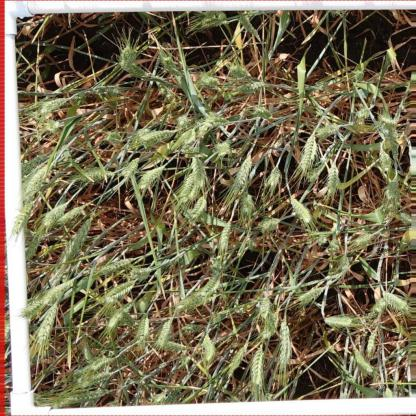whd: (63, 218, 92, 262), (52, 389, 108, 408), (37, 304, 58, 345), (43, 278, 72, 304), (105, 279, 136, 302), (14, 202, 35, 235), (108, 301, 134, 327), (249, 350, 265, 392), (197, 117, 229, 138), (277, 324, 292, 368), (24, 168, 48, 194), (233, 159, 251, 192), (138, 166, 162, 189), (181, 173, 200, 202), (382, 290, 409, 310), (22, 154, 44, 178), (353, 346, 373, 372), (290, 198, 310, 223), (301, 135, 316, 168), (44, 204, 66, 226), (20, 296, 42, 318), (101, 258, 133, 273), (58, 205, 85, 222), (178, 293, 205, 310), (242, 16, 260, 41), (24, 232, 40, 260), (139, 129, 173, 142), (200, 274, 221, 295), (41, 97, 67, 113), (262, 312, 278, 338), (83, 372, 112, 386), (350, 232, 374, 248), (300, 287, 324, 303), (316, 122, 339, 138), (34, 388, 54, 406), (190, 196, 206, 218), (157, 322, 171, 346), (325, 315, 353, 327), (219, 222, 231, 250), (237, 82, 264, 94), (137, 315, 149, 341), (328, 162, 338, 193), (378, 151, 392, 172), (121, 46, 133, 70), (122, 158, 138, 176), (386, 176, 398, 200), (203, 335, 214, 361), (266, 166, 280, 186), (80, 168, 114, 176), (91, 358, 113, 370), (367, 329, 377, 354), (232, 347, 243, 369), (260, 298, 271, 320), (192, 157, 202, 181), (131, 64, 148, 78), (131, 268, 150, 280), (262, 217, 281, 229), (306, 167, 321, 182), (160, 54, 174, 70), (201, 17, 223, 27), (166, 341, 188, 351), (107, 130, 121, 145), (230, 65, 247, 77), (255, 106, 272, 118), (46, 120, 60, 134), (201, 76, 220, 86), (242, 193, 252, 212), (215, 143, 230, 155), (73, 365, 89, 376), (18, 90, 46, 96), (182, 324, 203, 332), (390, 139, 398, 160), (184, 129, 195, 144), (78, 175, 104, 181), (375, 297, 385, 312), (340, 255, 349, 271), (159, 87, 171, 99), (245, 238, 256, 251), (170, 66, 184, 76), (381, 115, 396, 124), (4, 319, 10, 341), (357, 108, 369, 119), (154, 394, 165, 405), (180, 353, 191, 364), (178, 114, 188, 126), (400, 212, 412, 222), (22, 192, 35, 201), (203, 11, 222, 17), (72, 92, 86, 100), (213, 267, 226, 275), (329, 240, 339, 250), (380, 204, 390, 214), (137, 128, 149, 136), (356, 69, 364, 81), (104, 88, 118, 94), (84, 346, 90, 360), (318, 236, 327, 245), (209, 260, 218, 268), (386, 386, 392, 398), (205, 296, 215, 303), (274, 138, 281, 147), (391, 131, 400, 138), (243, 342, 248, 353), (29, 102, 38, 108), (371, 247, 377, 256), (381, 128, 389, 134), (332, 10, 344, 14), (108, 402, 120, 406), (331, 239, 338, 245), (395, 214, 402, 220), (219, 20, 227, 25), (296, 288, 302, 294), (209, 256, 214, 262), (404, 221, 410, 225), (388, 204, 392, 208), (397, 201, 400, 206)
